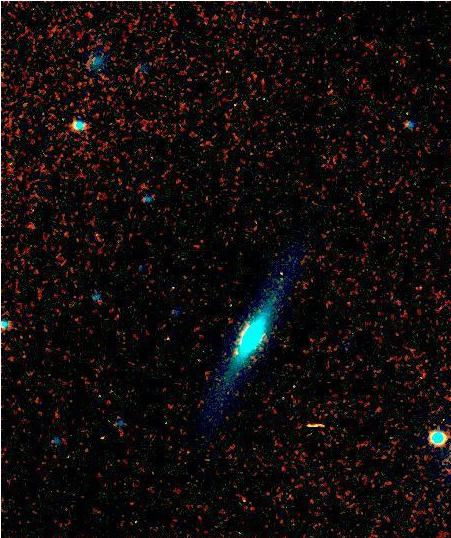star: (221, 338, 251, 368)
